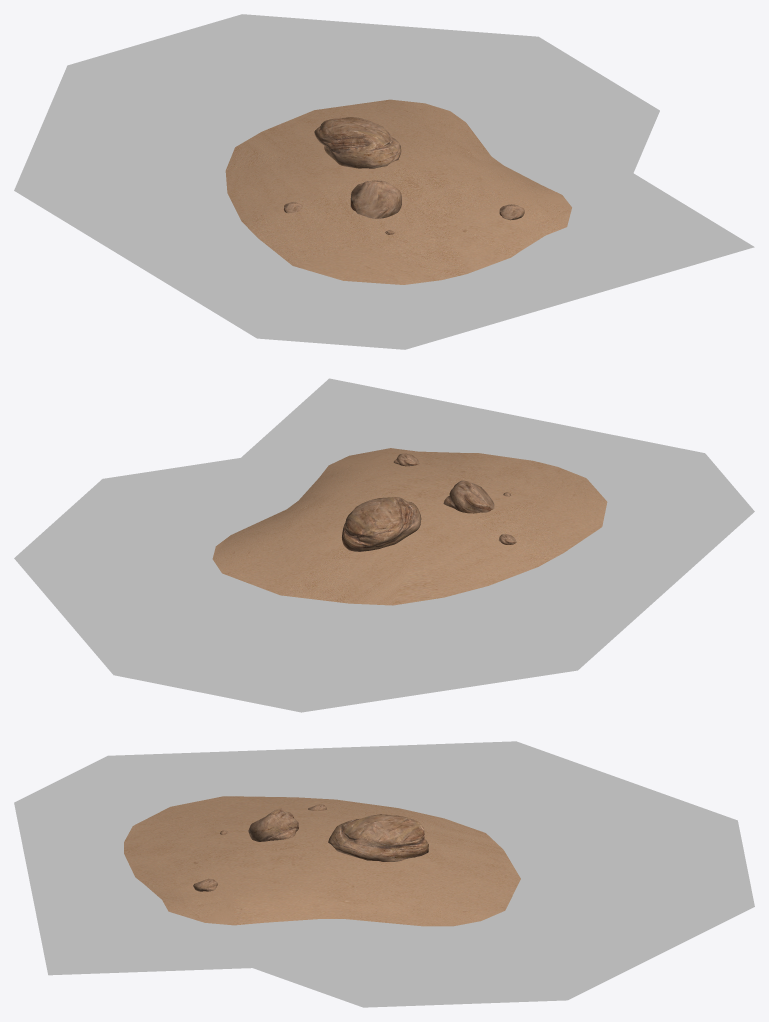
File: desert_pile_01.dae
3 views of the same model, one above another, from view 1: azimuth 30°, elevation 25°; view 2: azimuth 150°, elevation 25°; view 3: azimuth 270°, elevation 25° (orthographic). The views are drawn at different scales.
Visible parts, largest first — view 1: pPlane1, Mesh, rock_sandstone_small_02_lowpoly1, rock_sandstone_small_02_lowpoly; view 2: pPlane1, Mesh, rock_sandstone_small_02_lowpoly1, rock_sandstone_small_02_lowpoly; view 3: pPlane1, Mesh, rock_sandstone_small_02_lowpoly1, rock_sandstone_small_02_lowpoly.
Boxes of the visible parts, box(x1,y1,x2,y2) form: pPlane1: box(14, 14, 754, 349); Mesh: box(225, 99, 571, 284); rock_sandstone_small_02_lowpoly1: box(314, 117, 401, 168); rock_sandstone_small_02_lowpoly: box(350, 180, 401, 218); pPlane1: box(14, 378, 754, 712); Mesh: box(212, 448, 607, 605); rock_sandstone_small_02_lowpoly1: box(342, 497, 421, 551); rock_sandstone_small_02_lowpoly: box(443, 480, 494, 513); pPlane1: box(14, 741, 754, 1007); Mesh: box(124, 796, 520, 926); rock_sandstone_small_02_lowpoly1: box(328, 814, 428, 861); rock_sandstone_small_02_lowpoly: box(248, 808, 298, 841).
Size of the model in its own units: 2.88 by 0.2487 by 3.38.
